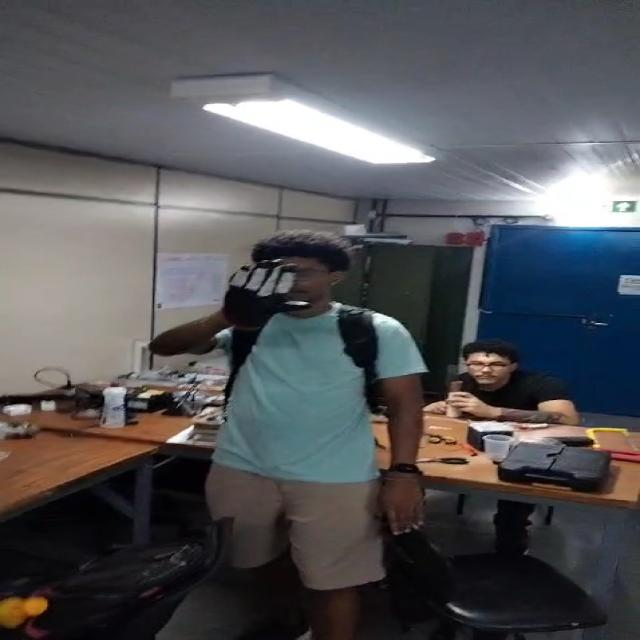Gloves: (214, 258, 318, 327)
